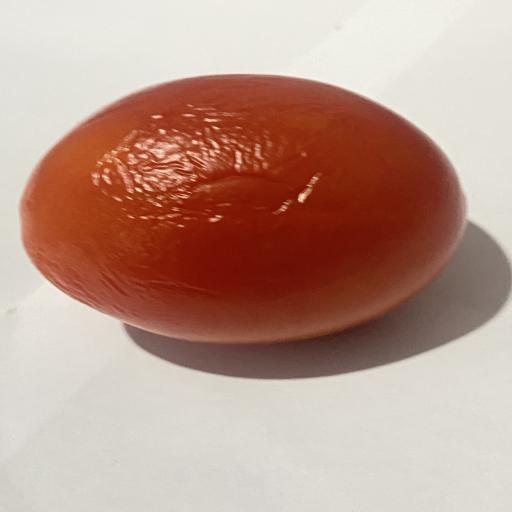spoiled: (21, 75, 465, 343)
